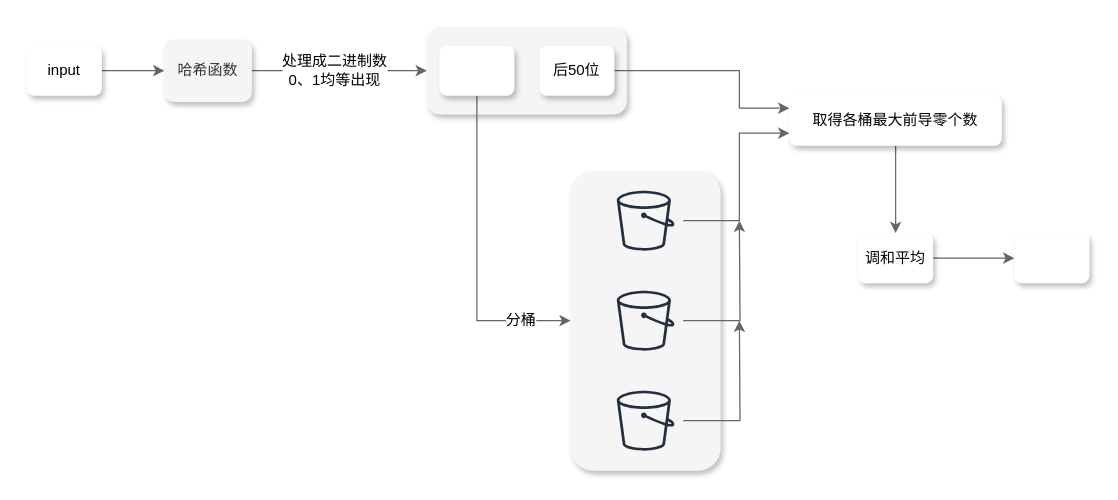
This 1118x500 diagram has some shape labels left out. Each missing label, with the centre of its shape:
"估算基数" goes at point 1052,259.
"前14位" goes at point 477,72.
